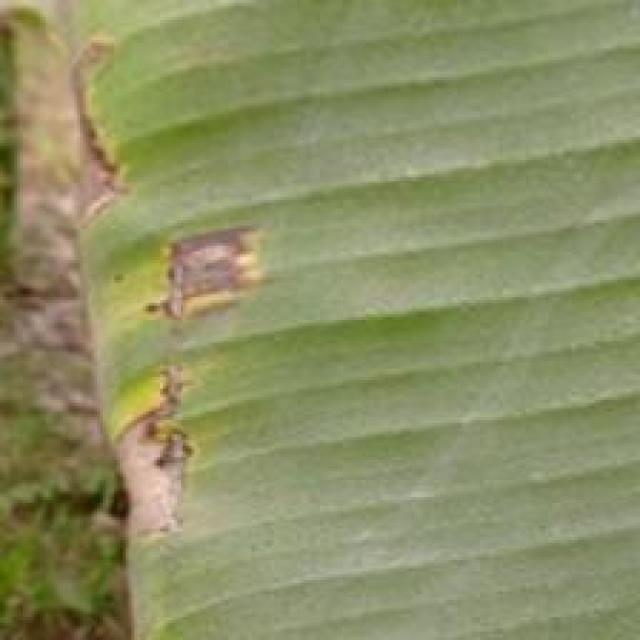Bacterial_spot: (100, 351, 208, 563), (50, 25, 144, 242), (139, 219, 282, 337)
